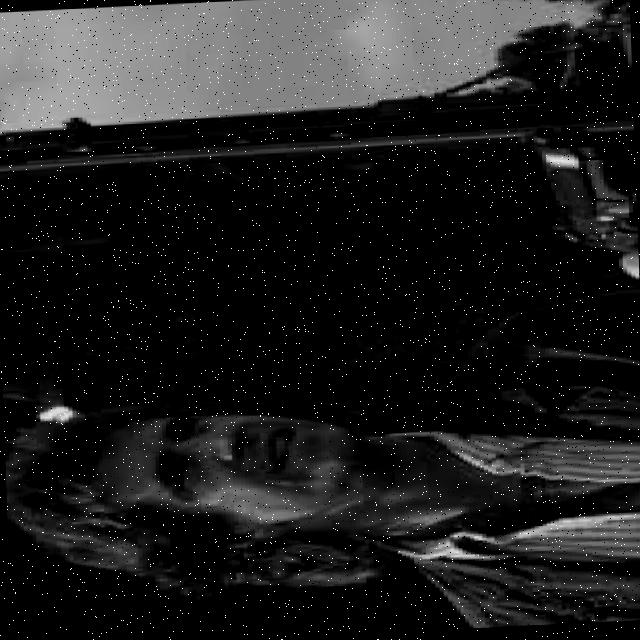pistol: (520, 123, 638, 255)
